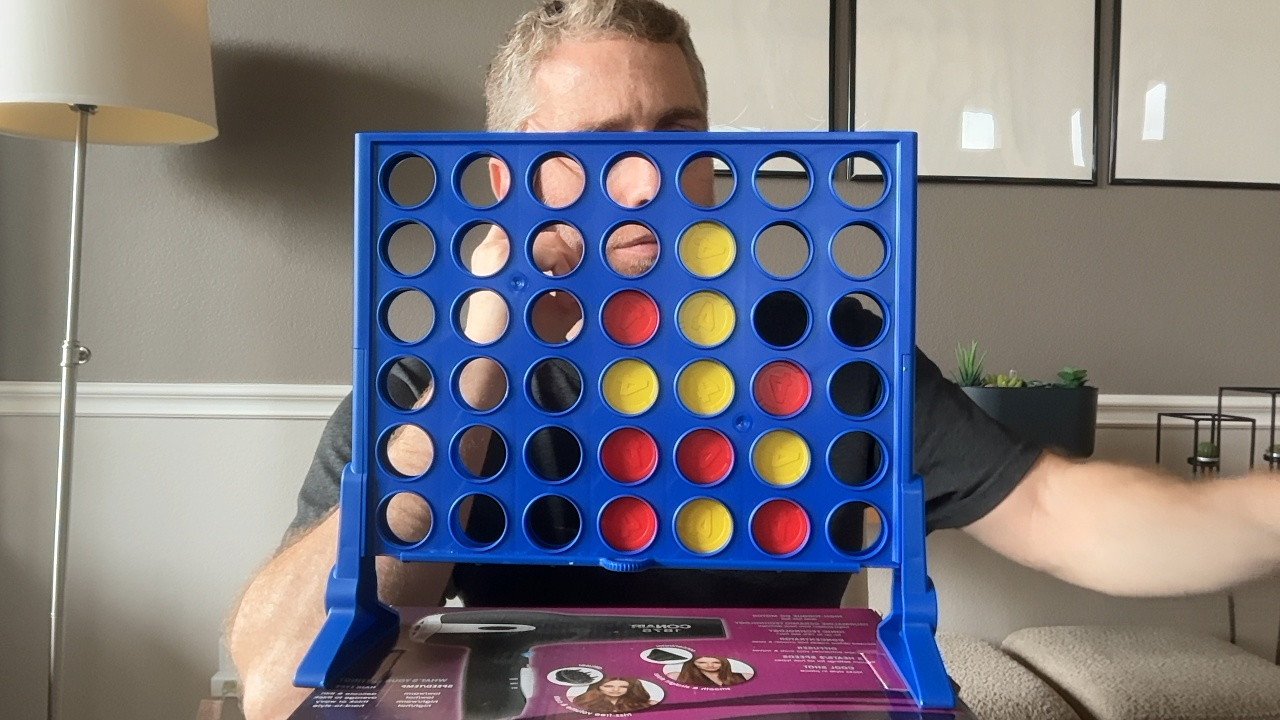red piece: (753, 360, 811, 416), (602, 289, 658, 345), (676, 428, 733, 483), (600, 427, 657, 482), (752, 499, 809, 554), (600, 496, 657, 551)
yellow piece: (677, 290, 735, 347), (677, 359, 734, 416), (678, 221, 735, 277), (752, 430, 810, 485), (601, 359, 658, 414), (676, 498, 732, 553)
